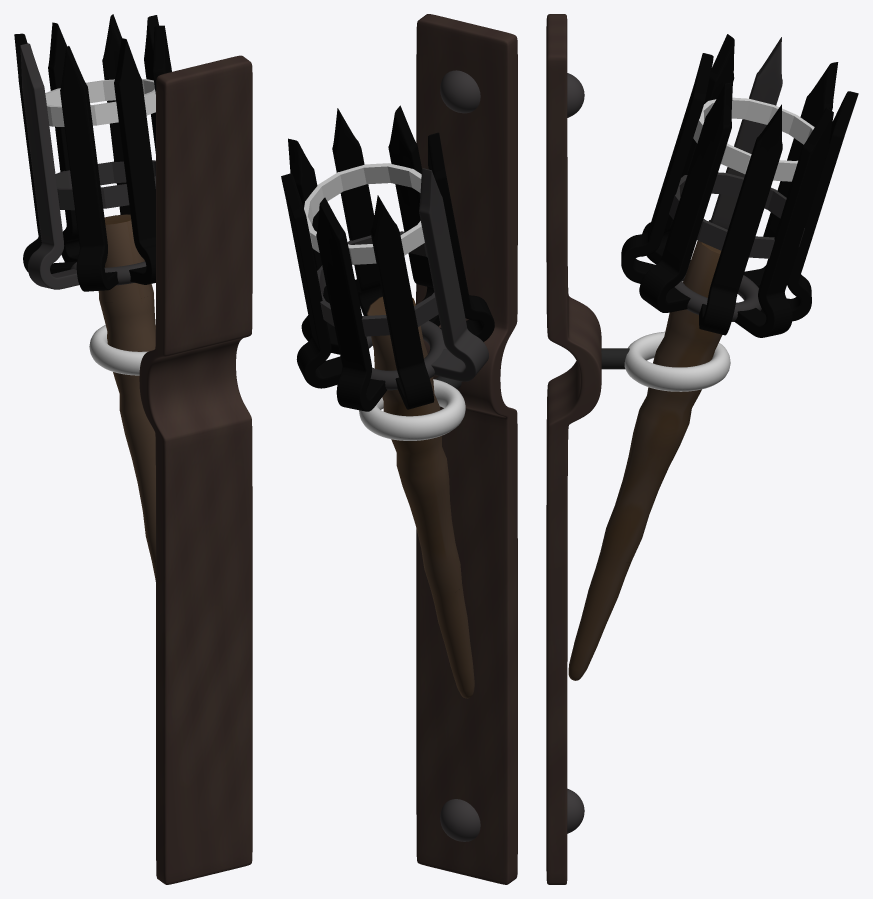
File: tocha.fbx
3 renders of one model, left to right at view 1: azimuth 30°, elevation 25°; view 2: azimuth 150°, elevation 25°; view 3: azimuth 270°, elevation 25°, orthographic. The views are drawn at different scales.
Parts seen in each view (by area): view 1: Cube.008, Cylinder.003, Cube.005, Cube.001, Cube, Cylinder.001, Cube.002, Cylinder, Torus.001, Cube.006, Cube.004, Cube.007 (+1 smaller); view 2: Cube.008, Cylinder.003, Cube.002, Cube, Cube.004, Cube.006, Cylinder.001, Cube.007, Torus.001, Cube.001, Cube.005, Cube.003 (+4 smaller); view 3: Cube.008, Cylinder.003, Cube.007, Cube.006, Cube.003, Cube.001, Torus.001, Cube.002, Cylinder.001, Cube, Cylinder, Cube.004 (+2 smaller).
Part boxes in pixels (x1,y1,x2,y2): Cube.008: (139,55,252,884); Cylinder.003: (98,214,155,581); Cube.005: (60,46,118,291); Cube.001: (114,38,155,284); Cube: (20,43,79,289); Cylinder.001: (45,79,155,126); Cube.002: (48,22,79,262); Cylinder: (55,160,155,210); Torus.001: (89,319,155,375); Cube.006: (102,14,130,214); Cube.004: (14,33,76,273); Cube.007: (153,25,171,93); Cube.008: (416,14,517,884); Cylinder.003: (367,296,474,698); Cube.002: (316,197,386,411); Cube: (419,168,488,381); Cube.004: (370,195,434,409); Cube.006: (281,173,342,388); Cylinder.001: (304,163,424,264); Cube.007: (332,108,382,315); Torus.001: (359,379,465,440); Cube.001: (388,105,440,326); Cube.005: (428,132,494,341); Cube.003: (288,138,339,354); Cube.008: (546,14,601,884); Cylinder.003: (568,241,722,680); Cube.007: (639,82,732,312); Cube.006: (734,108,833,337); Cube.003: (699,104,782,335); Cube.001: (621,53,713,283); Torus.001: (624,331,730,391); Cube.002: (761,91,858,321); Cylinder.001: (693,97,814,181); Cube: (708,37,782,229); Cylinder: (669,172,804,258); Cube.004: (743,62,838,287).
Size of the model in its own units: 212 by 981 by 334.
